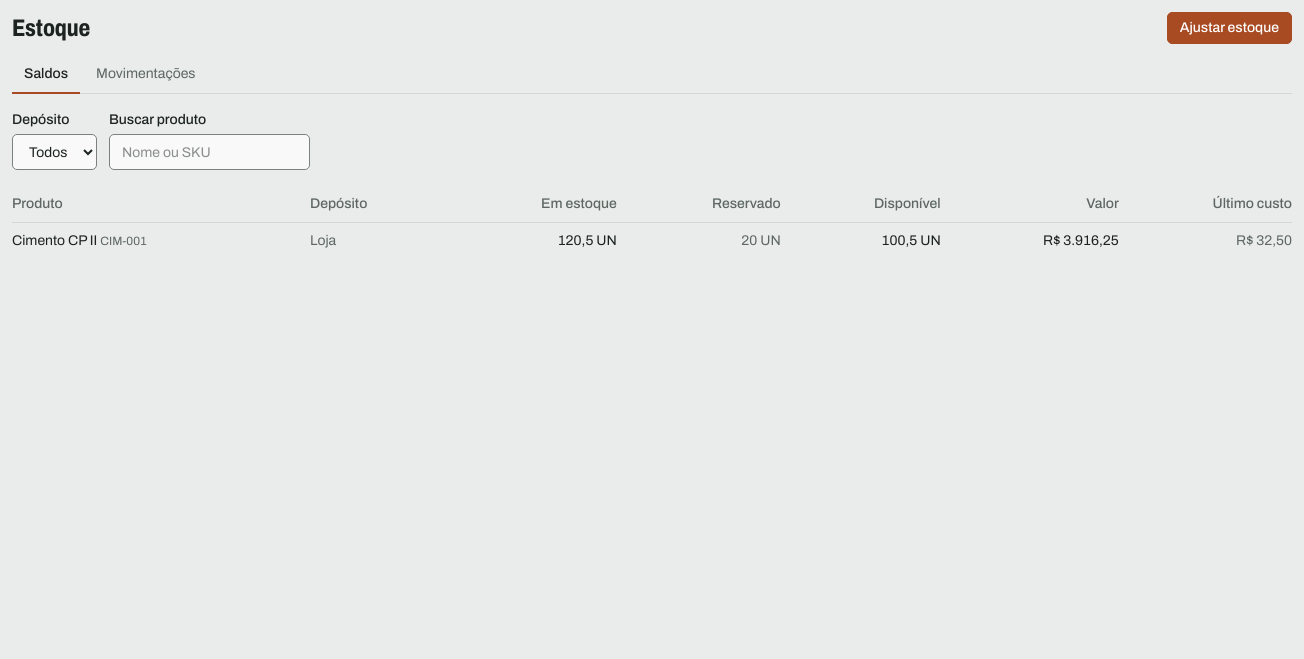
StockScreen › the count adjustment › sends the count in the API's format with a key and the CSRF token, then reports the result
The width and height of the screenshot is (1304, 659).
Click the button "Ajustar estoque" at (1229, 28), box [1167, 12, 1292, 44]
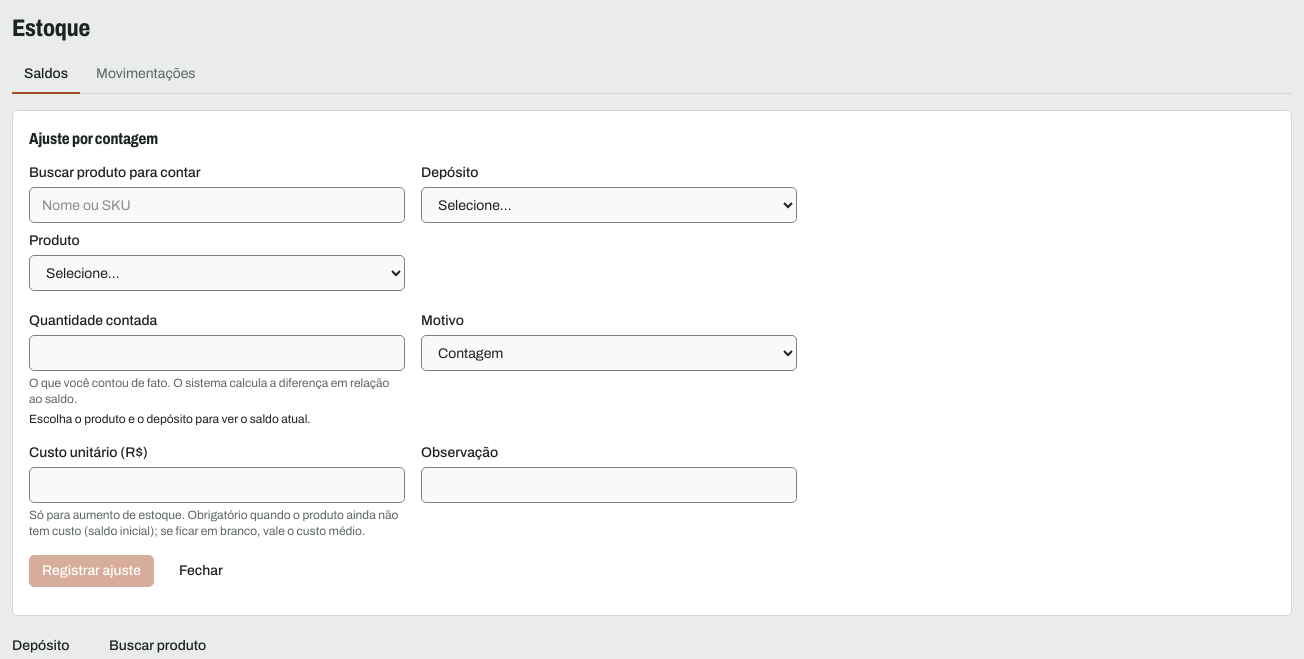
Select "Cimento CP II (CIM-001)" in the dropdown labelled "Produto" at (217, 273), box [29, 255, 405, 291]
Select "Loja" in the dropdown labelled "Depósito" below "Buscar produto para contar" at (609, 205), box [421, 187, 797, 223]
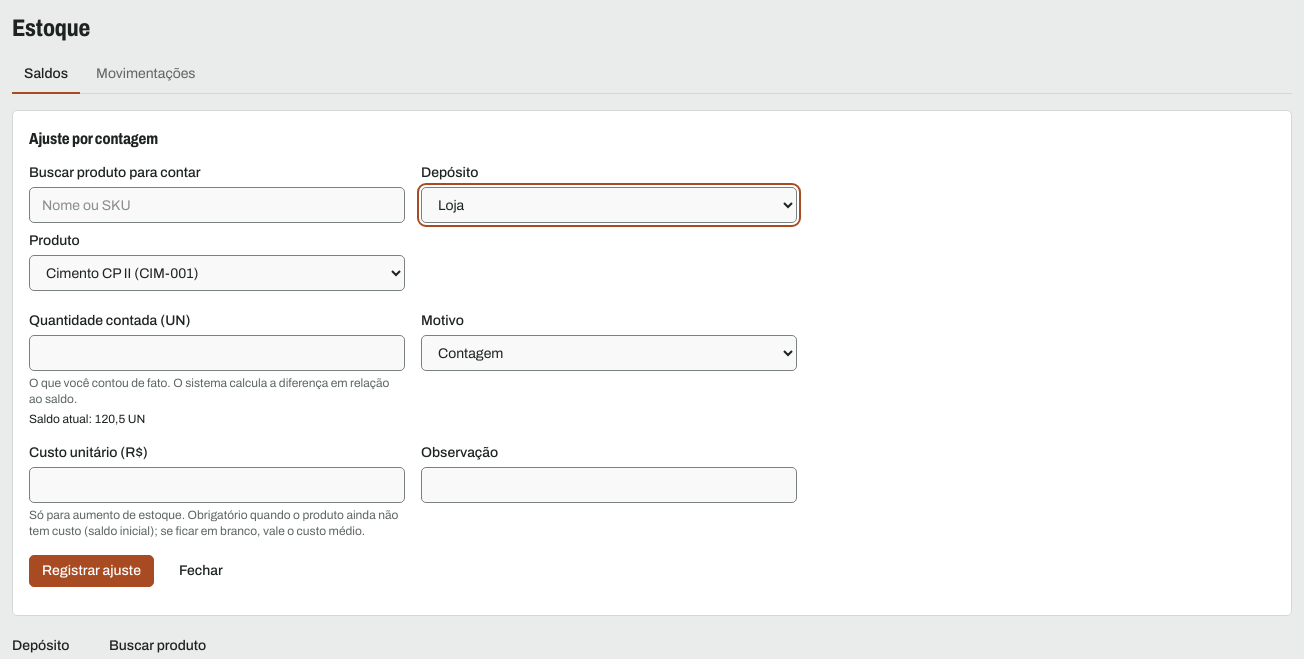
Expected: the text "Saldo atual: 120,5 UN" is shown, [29, 412, 145, 426]
Type "1.000,5" into the field labelled "Quantidade contada (UN)" at (217, 353), box [29, 335, 405, 371]
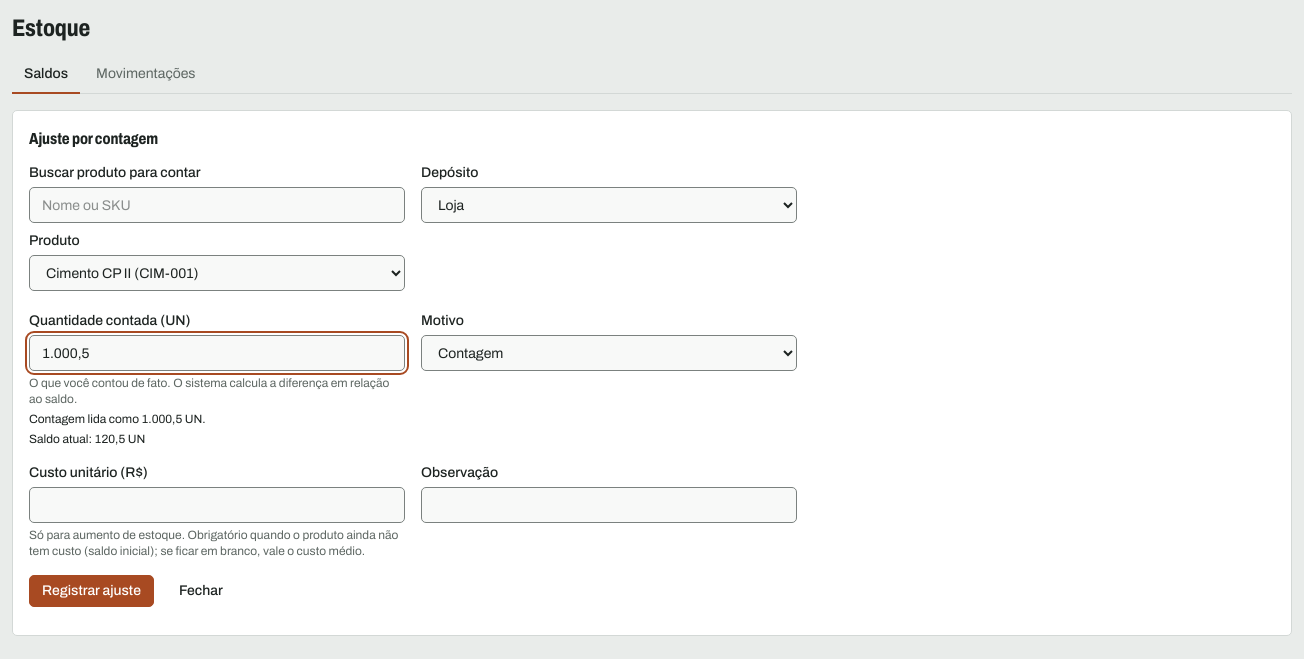
Type "32,50" into the field labelled "Custo unitário (R$)" at (217, 505), box [29, 487, 405, 523]
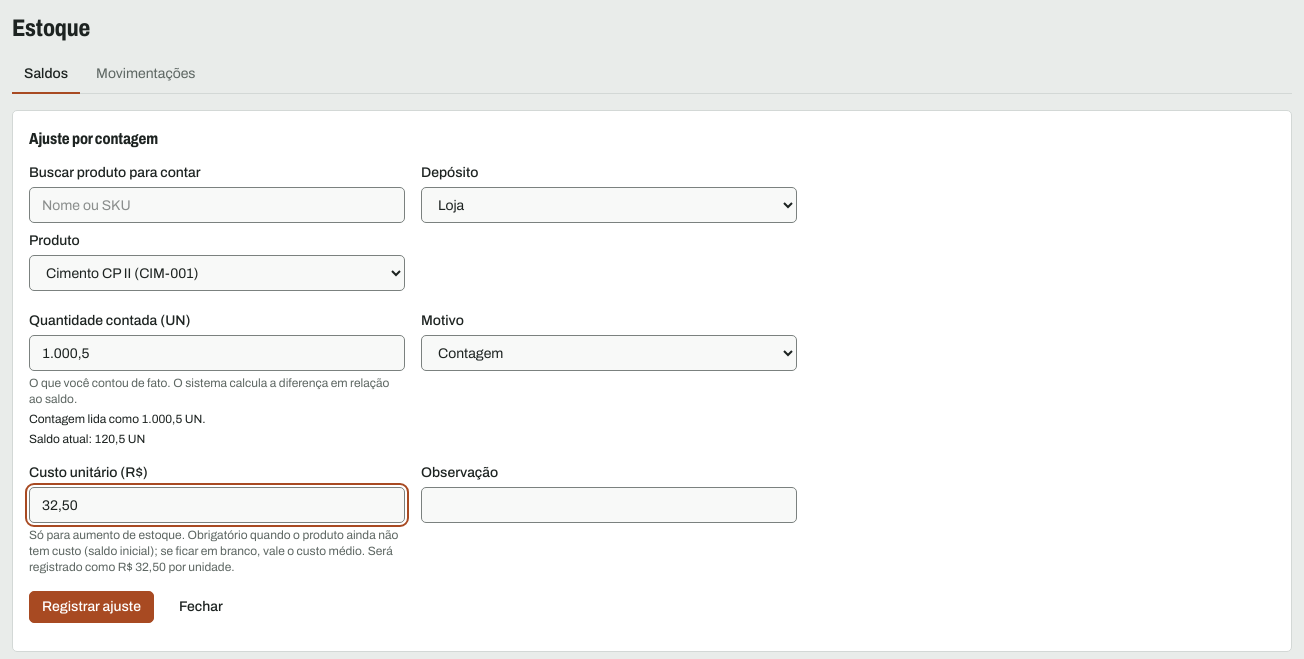
Select "Saldo inicial" in the dropdown labelled "Motivo" at (609, 353), box [421, 335, 797, 371]
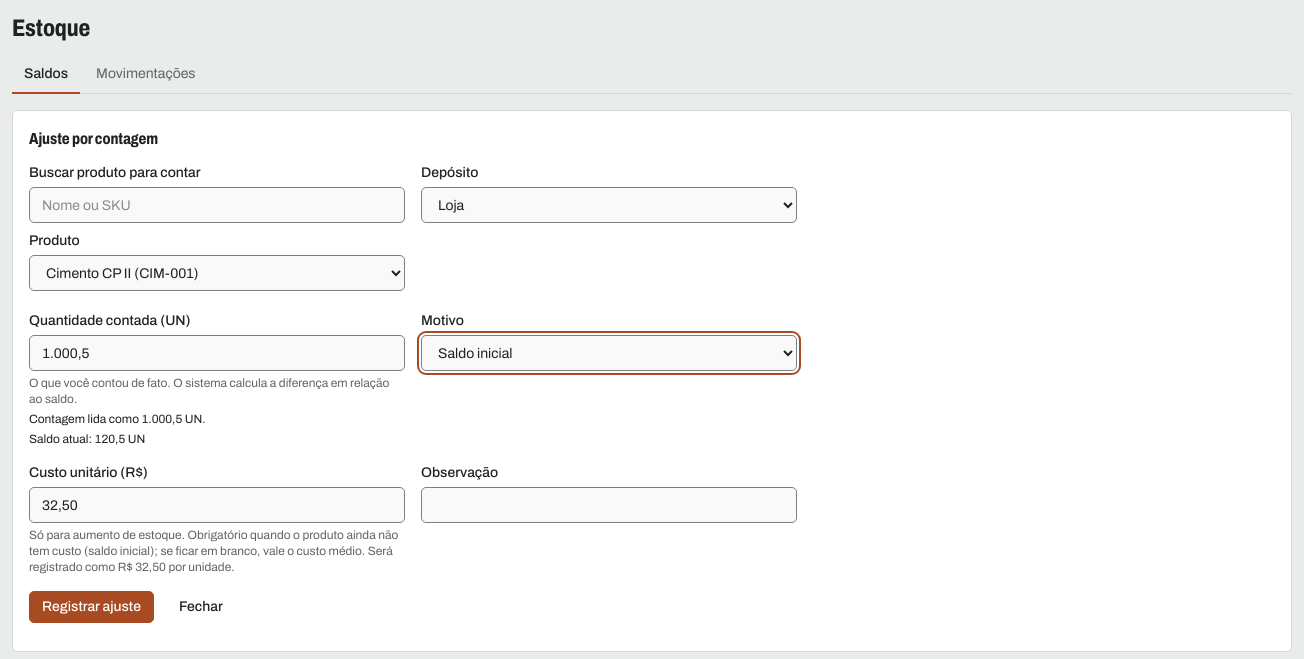
Click the button "Registrar ajuste" at (91, 607), box [29, 591, 154, 623]
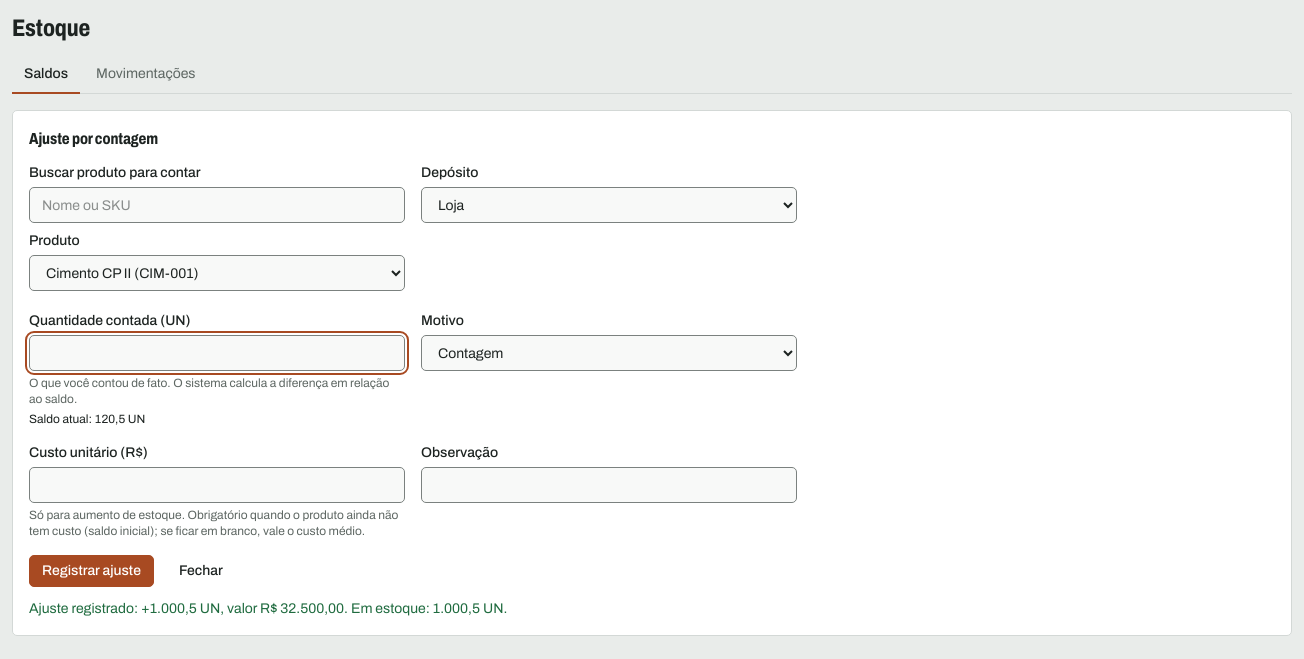
Expected: the message shows "Ajuste registrado: +1.000,5 UN", [29, 601, 507, 616]
Expected: the message shows "Em estoque: 1.000,5 UN", [29, 601, 507, 616]
